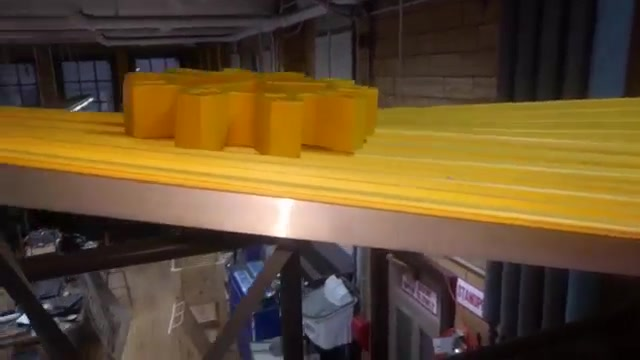gear: (117, 49, 387, 159)
